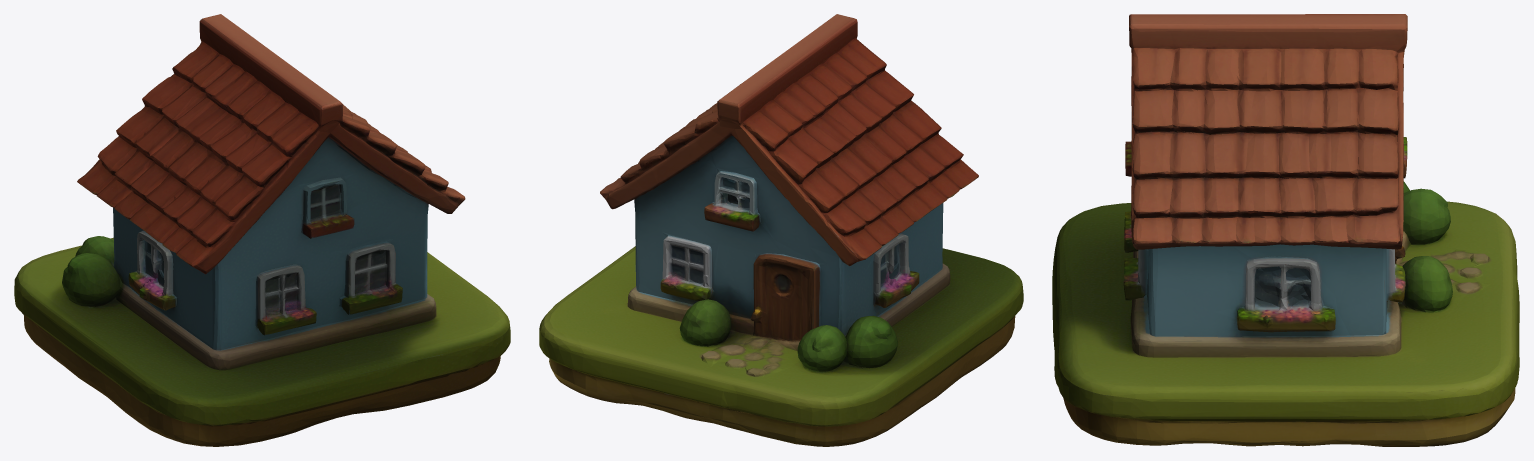
File: casa_relleno_1.glb
3 renders of one model, left to right at view 1: azimuth 30°, elevation 25°; view 2: azimuth 150°, elevation 25°; view 3: azimuth 270°, elevation 25°, orthographic. The views are drawn at different scales.
Parts seen in each view (by area): view 1: world; view 2: world; view 3: world.
Boxes of the visible parts, box(x1,y1,x2,y2) form: world: box(14, 14, 510, 446); world: box(539, 14, 1023, 446); world: box(1052, 14, 1519, 446).
Bounding box in the file's own units: 0.6038 × 0.4884 × 0.6091.
1 material, 1 textured.
